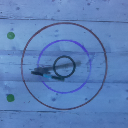Axe Tip: (36, 70, 50, 73)
